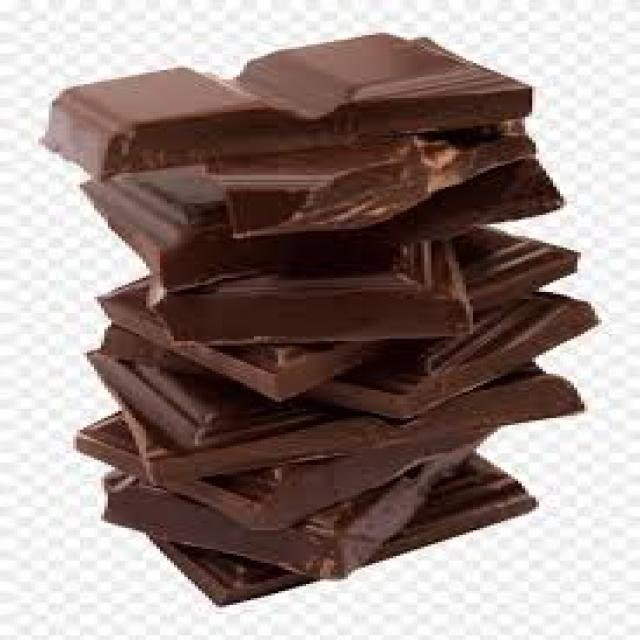Chocolate: (41, 33, 586, 607)
